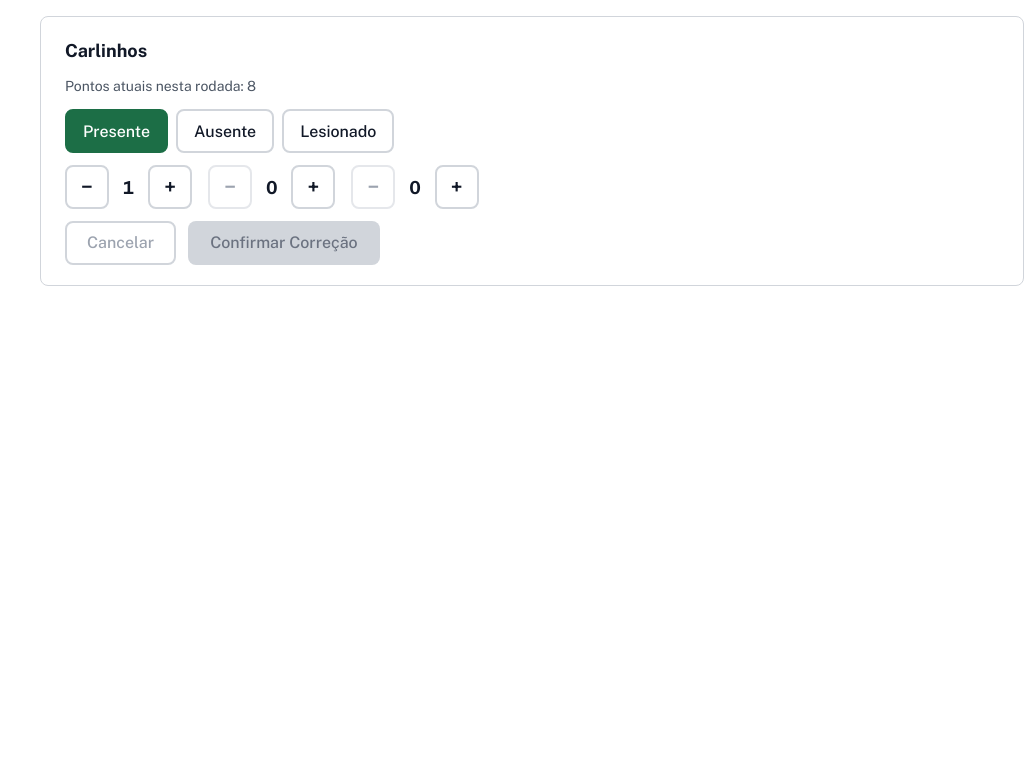
Test: ParticipacaoCorrecaoRow › erro na confirmação: mensagem genérica literal do UX-SPEC (T07), nunca sugere salvamento parcial
Click the radio button labelled "Ausente" at (225, 131), box [176,109,274,153]
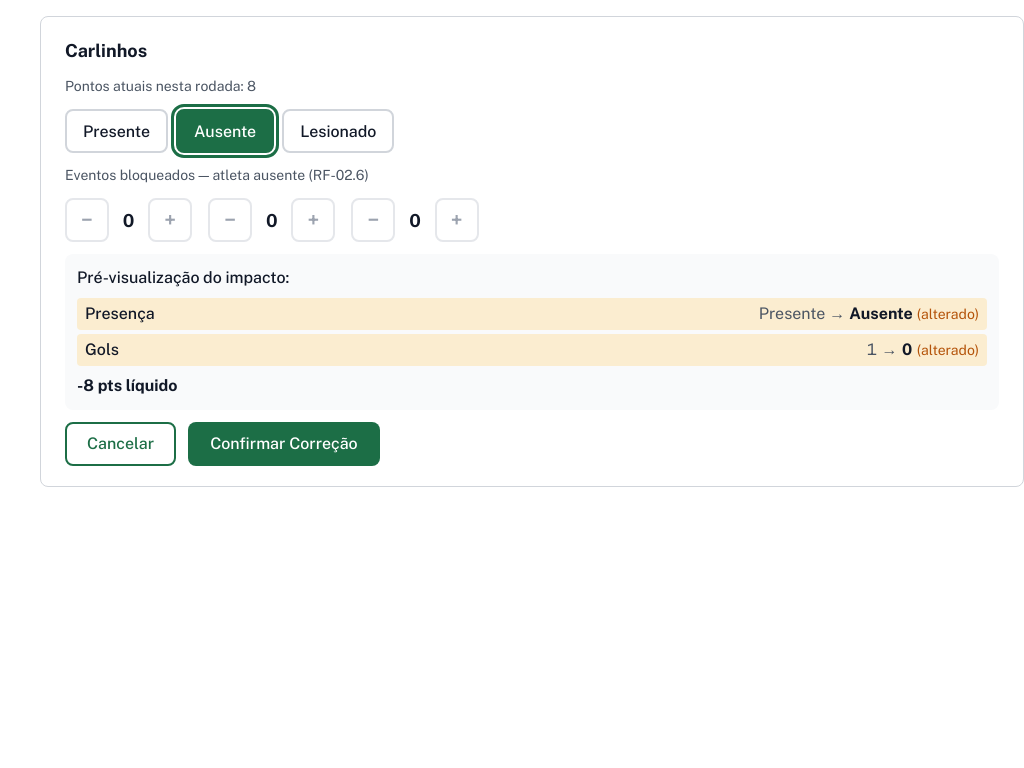
Check: the text "Pré-visualização do impacto:" is shown, box [77,268,289,287]
Click the button "Confirmar Correção" at (284, 444), box [188,422,380,466]
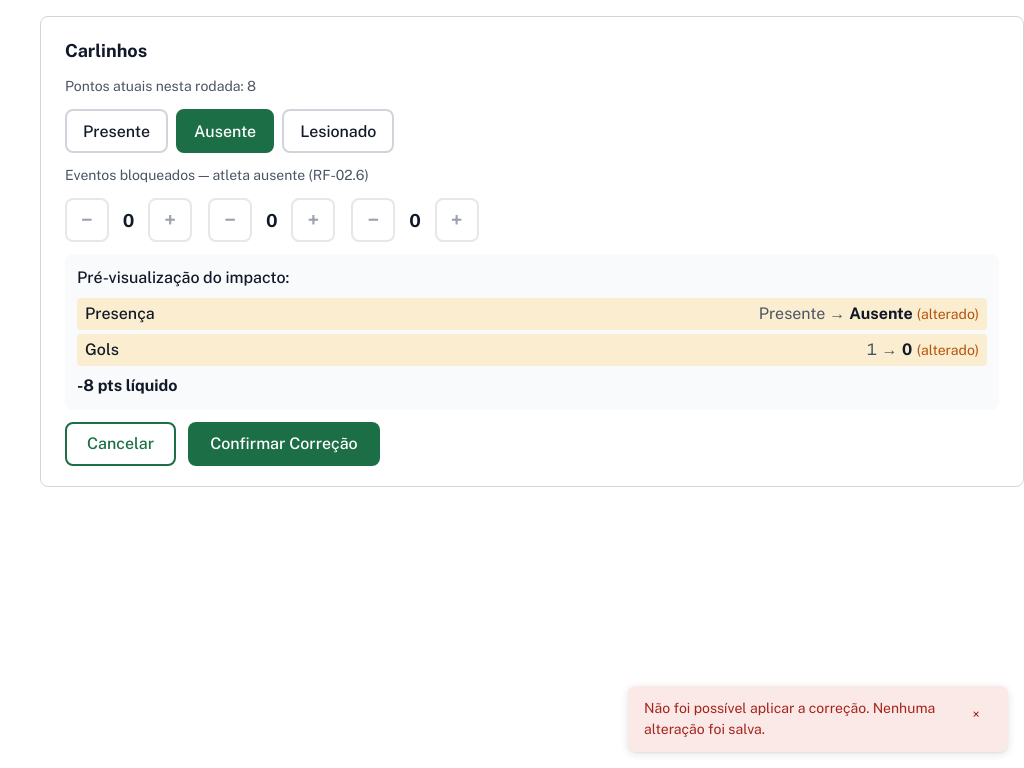
Check: the text "Não foi possível aplicar a correção. Nenhuma alteração foi salva." is shown, box [644,698,952,740]
